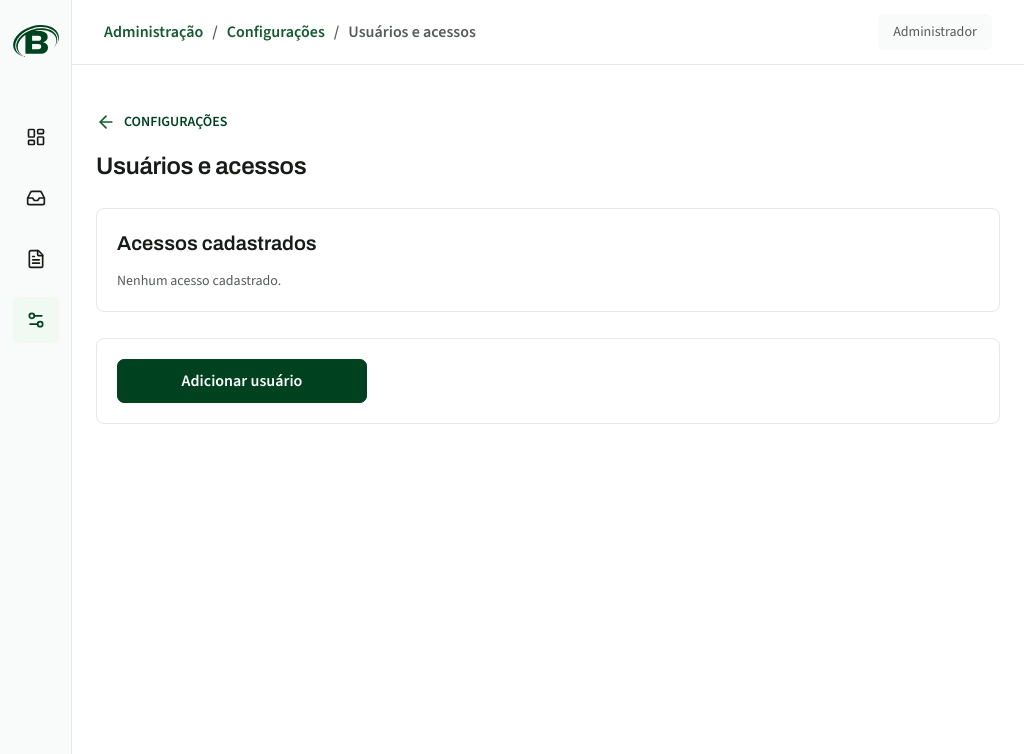
ADM-12 — integração de criação de usuários › trata e-mail duplicado sem expor mensagem interna
Expected: the text "Nenhum acesso cadastrado." is shown, [117, 271, 281, 291]
Click the button "Adicionar usuário". click: click(242, 381)
box: [117, 359, 367, 403]
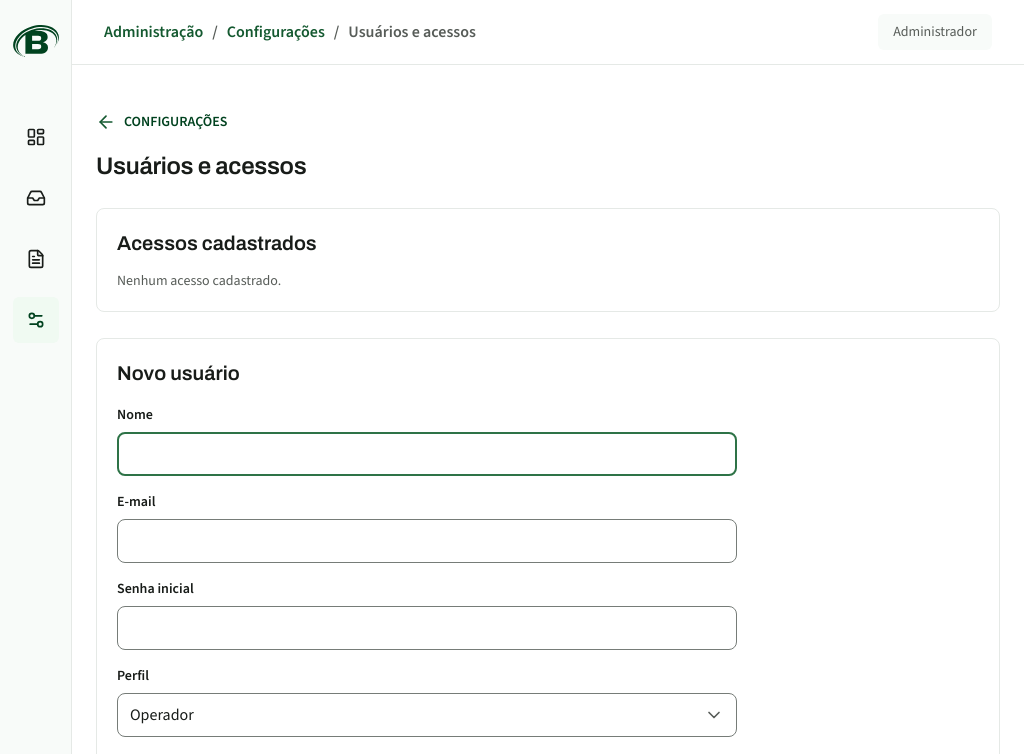
Type "Usuário de Exemplo" into the field labelled "Nome". click: (427, 454)
box: [117, 432, 737, 476]
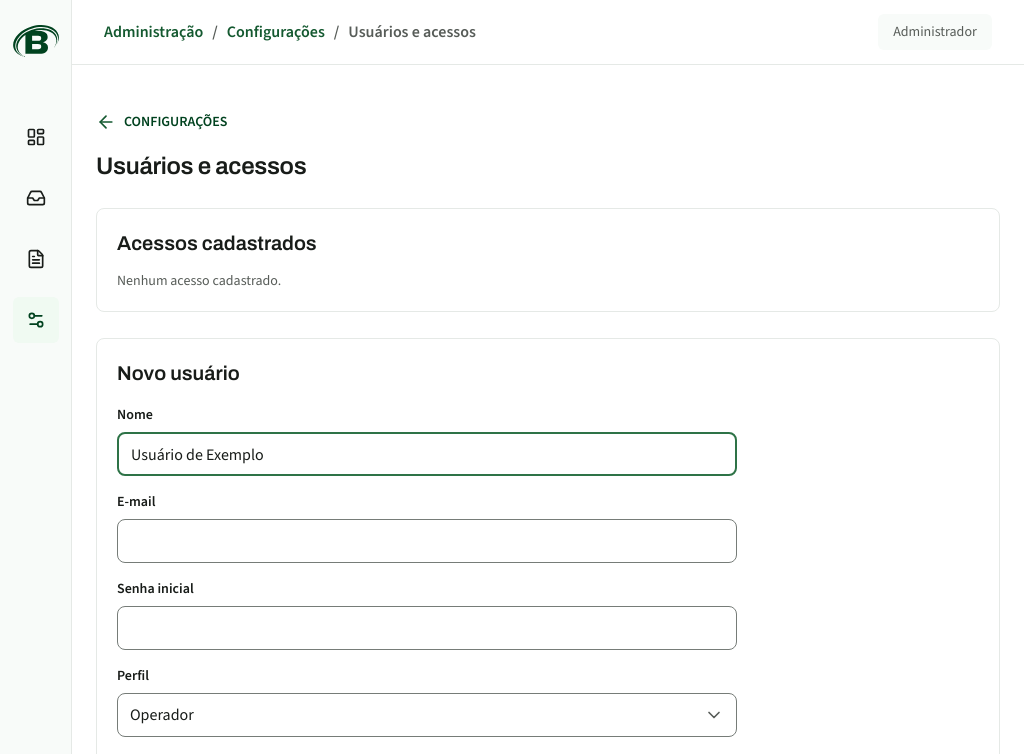
Type "novo@example.test" into the field labelled "E-mail". click: (427, 541)
box: [117, 519, 737, 563]
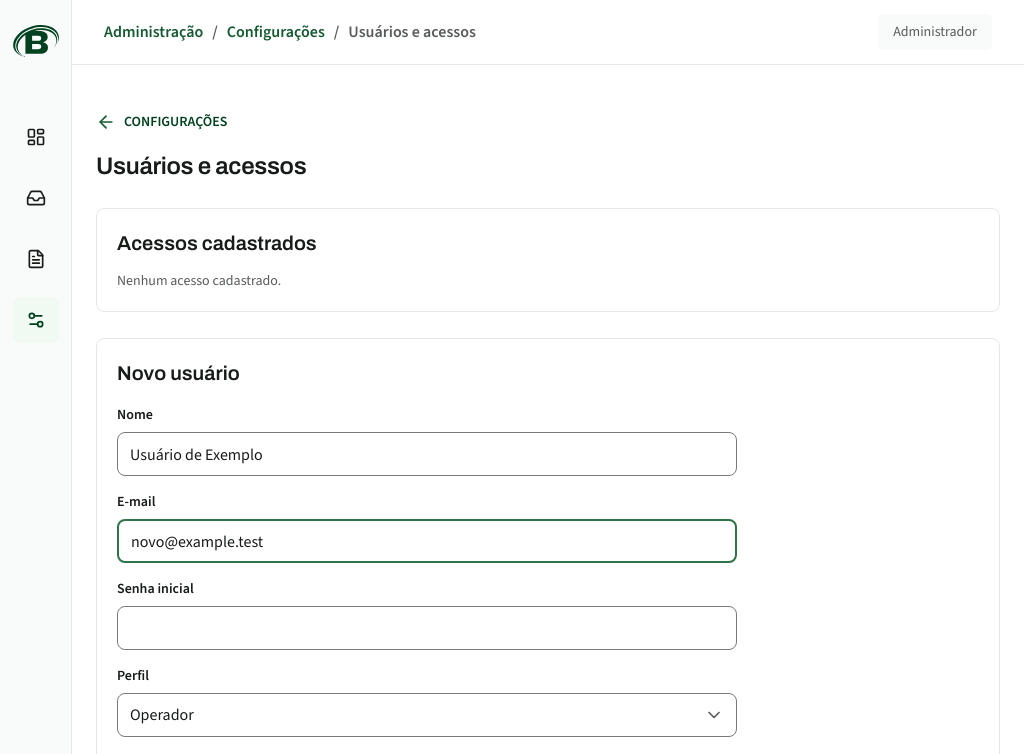
Type "SenhaExemplo!2026" into the password field labelled "Senha inicial". click: (427, 628)
box: [117, 606, 737, 650]
(page scrolled)
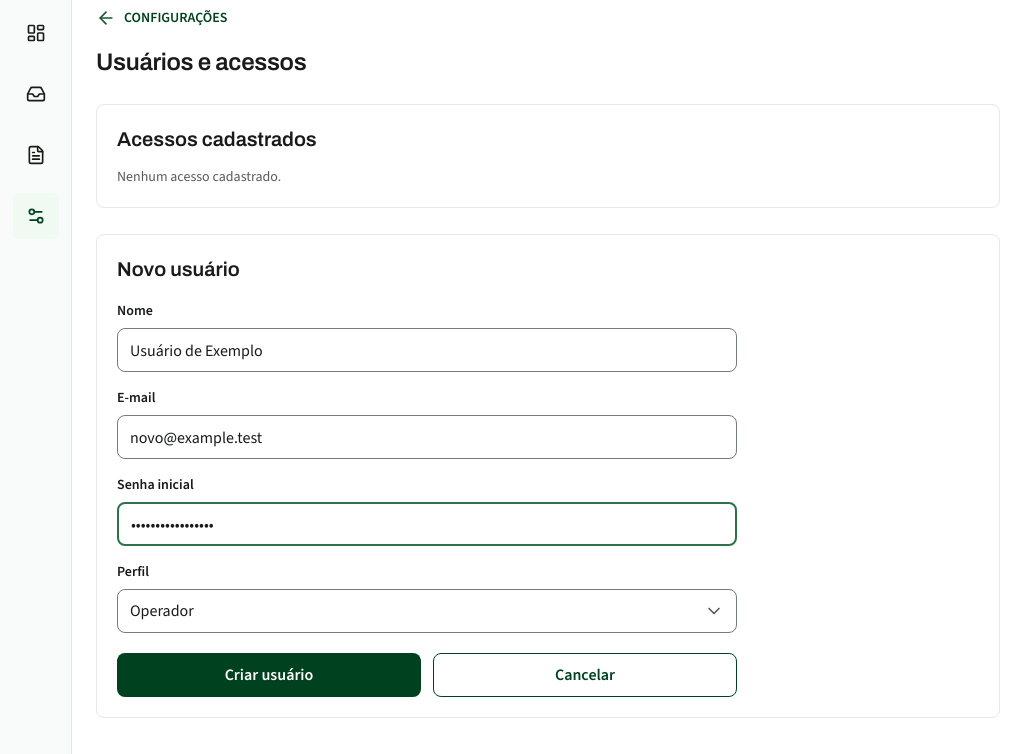
Click the button "Criar usuário". click: click(269, 675)
box: [117, 653, 421, 697]
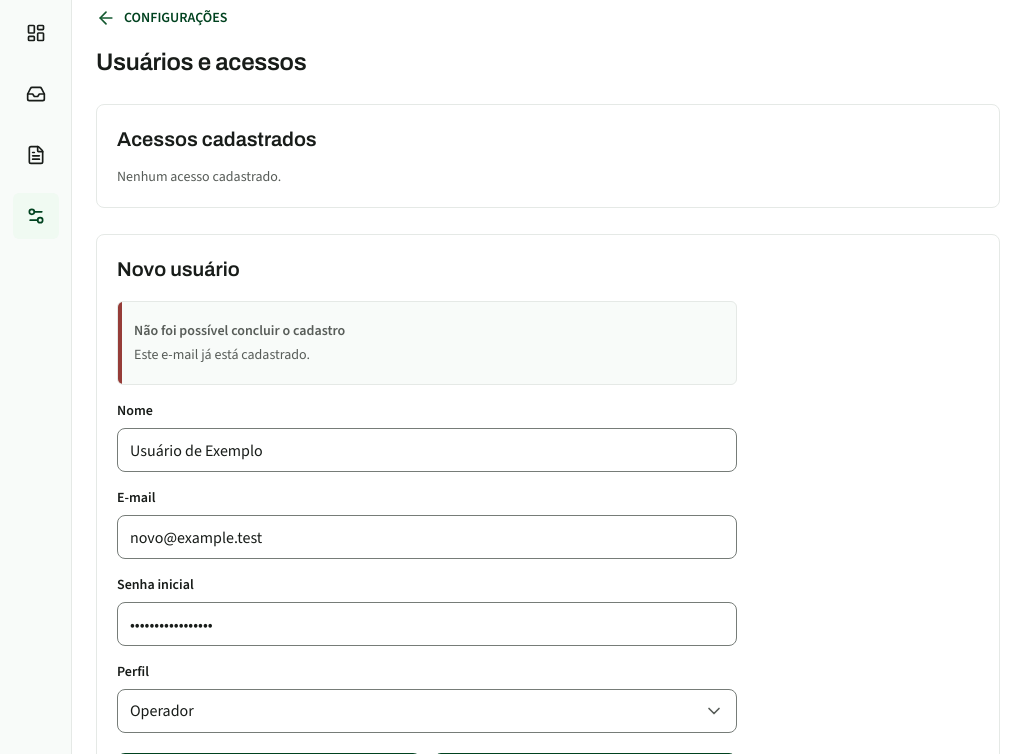
Now the message "Não foi possível concluir o cadastro Este e-mail já está cadastrado." is shown, box [117, 301, 737, 385]
